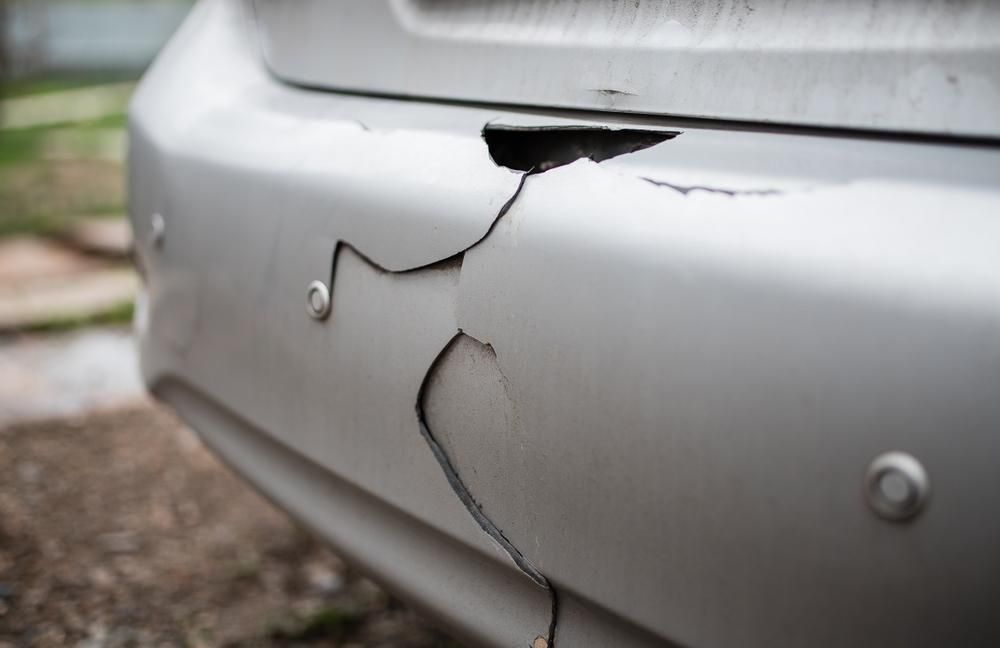crack: (327, 126, 682, 648)
